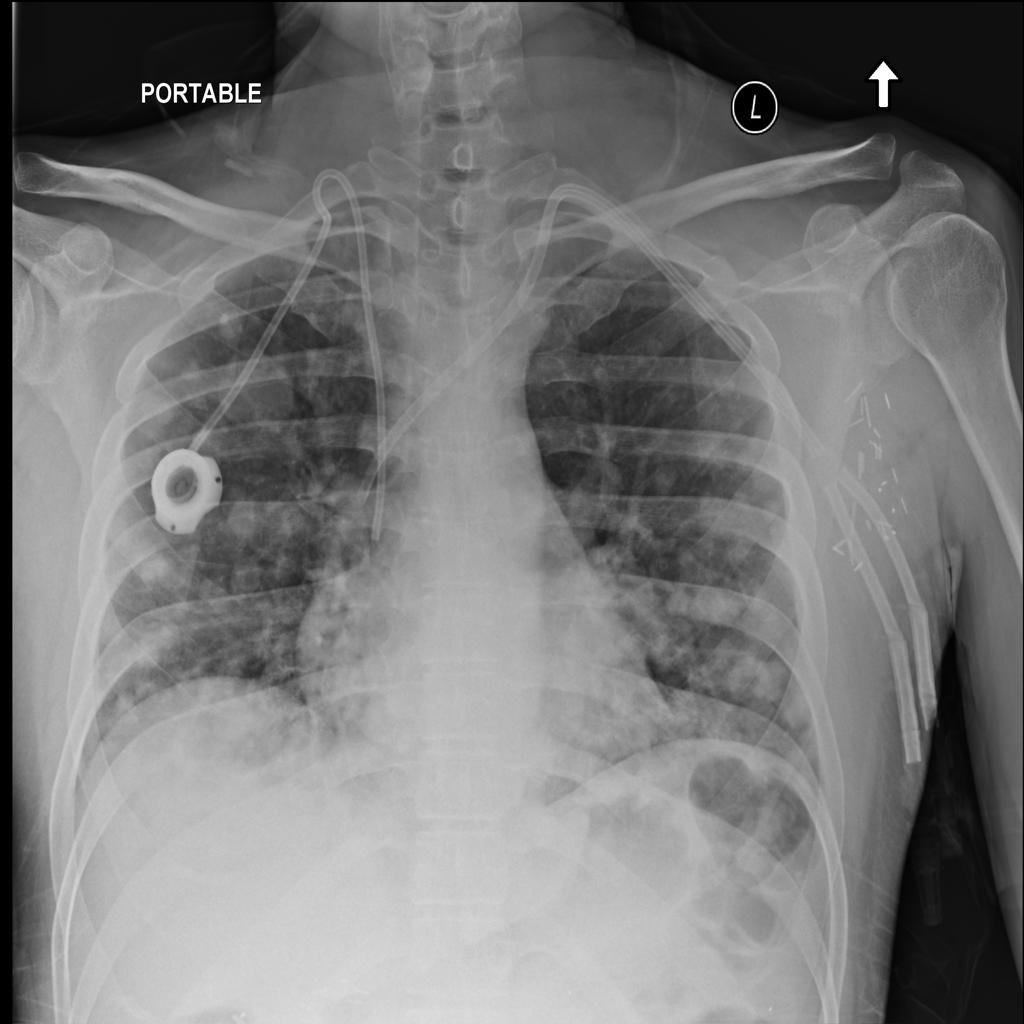nodule: (539, 539, 665, 704), (172, 665, 295, 775), (206, 337, 306, 444), (693, 477, 762, 555), (723, 644, 797, 714), (117, 604, 190, 674), (681, 570, 753, 636), (102, 682, 154, 733), (125, 538, 177, 588), (217, 493, 266, 546), (205, 299, 256, 346)
